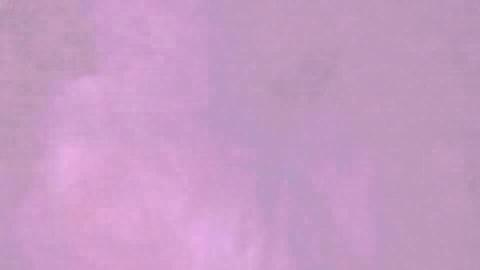tomato: (210, 116, 429, 268), (1, 110, 210, 268), (429, 127, 477, 268)
